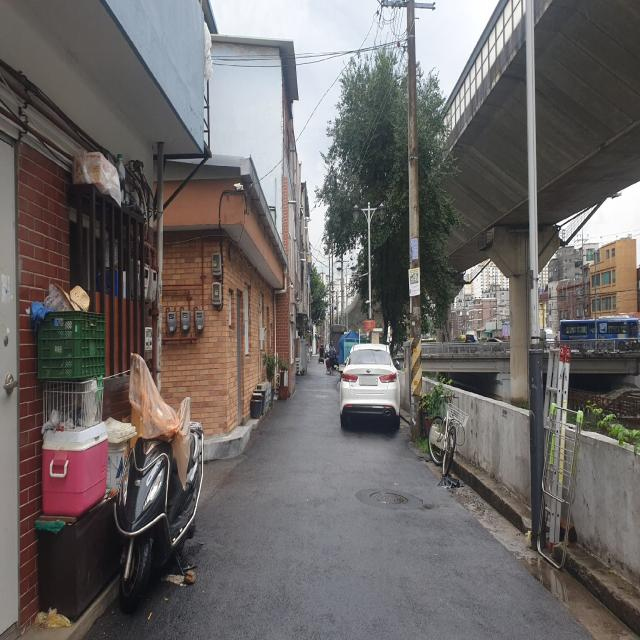car: (340, 344, 400, 428)
motorbike: (114, 354, 204, 614)
